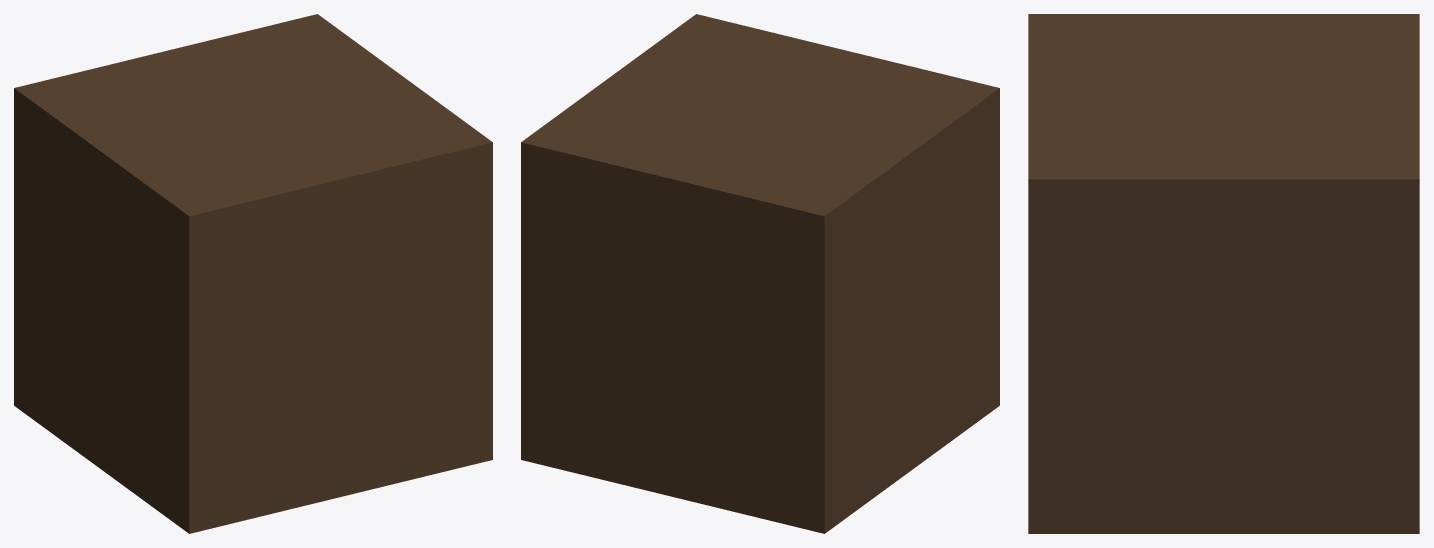
3 views of the same model, side by side, from view 1: azimuth 30°, elevation 25°; view 2: azimuth 150°, elevation 25°; view 3: azimuth 270°, elevation 25° (orthographic). The views are drawn at different scales.
Parts seen in each view (by area): view 1: g2o; view 2: g2o; view 3: g2o.
Part boxes in pixels (<box>): g2o: <box>14,14,492,533</box>; g2o: <box>521,14,999,533</box>; g2o: <box>1028,14,1419,533</box>.
Size of the model in its own units: 9 by 9 by 9.
